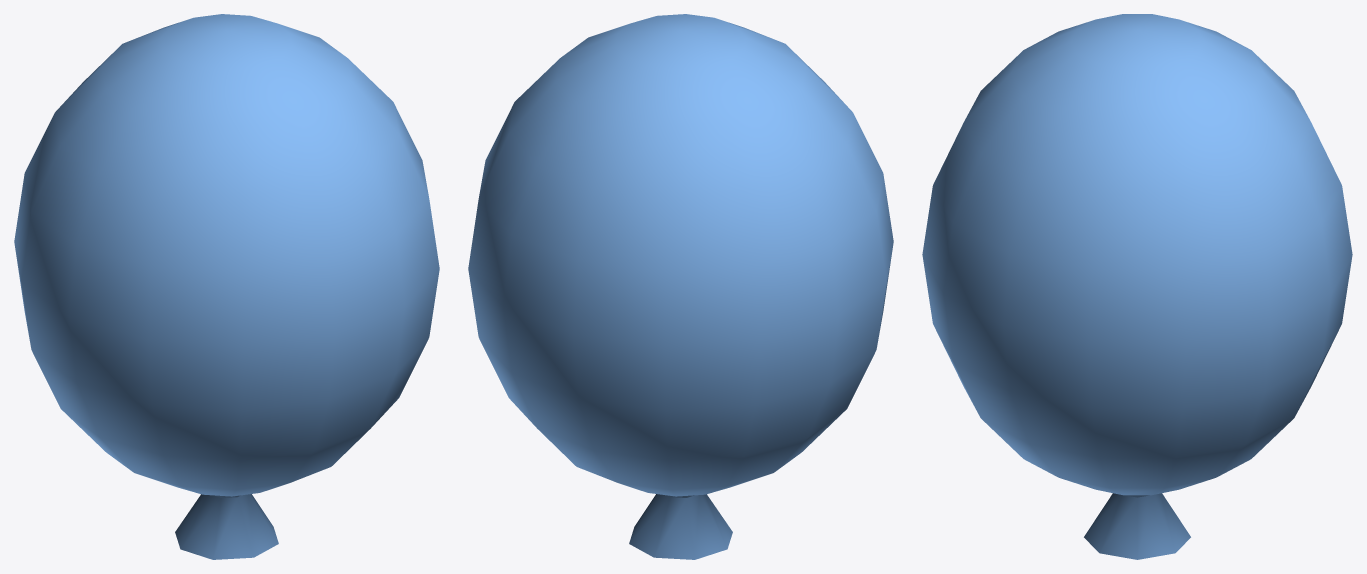
The model's file is WaterBalloon.fbx.
3 views of the same model, side by side, from view 1: azimuth 30°, elevation 25°; view 2: azimuth 150°, elevation 25°; view 3: azimuth 270°, elevation 25° (orthographic).
Visible parts, largest first — view 1: balloon; view 2: balloon; view 3: balloon.
Boxes of the visible parts, box(x1,y1,x2,y2) form: balloon: box(14, 14, 439, 559); balloon: box(468, 14, 893, 559); balloon: box(922, 14, 1352, 559).
Size of the model in its own units: 0.39 by 0.52 by 0.4.
